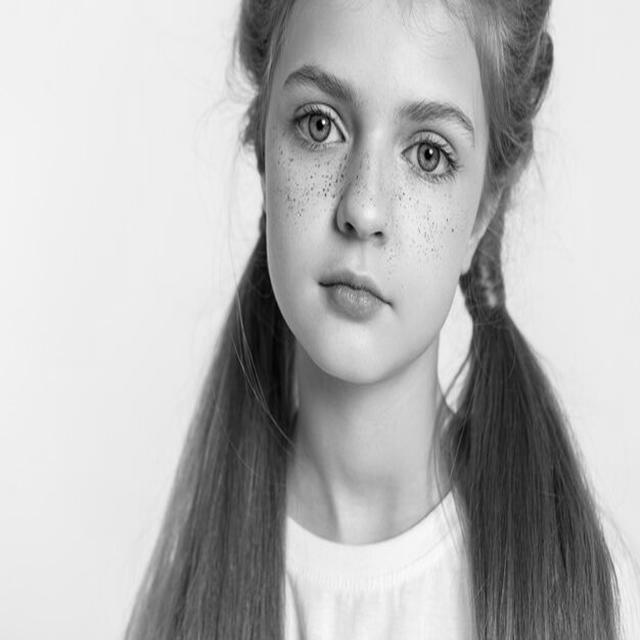Neutral: (264, 0, 487, 384)
